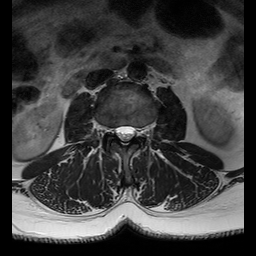CCS_normal: (121, 122, 130, 150)
LFS_normal: (137, 122, 144, 142)
LLS_normal: (130, 121, 136, 141)
RFS_stenosis: (106, 121, 114, 139)
RLS_normal: (113, 121, 120, 140)
